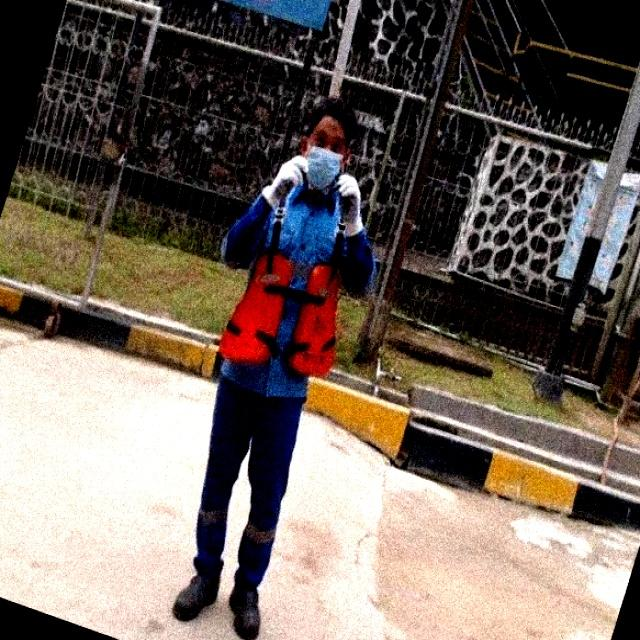safety_vest: (214, 219, 344, 392)
